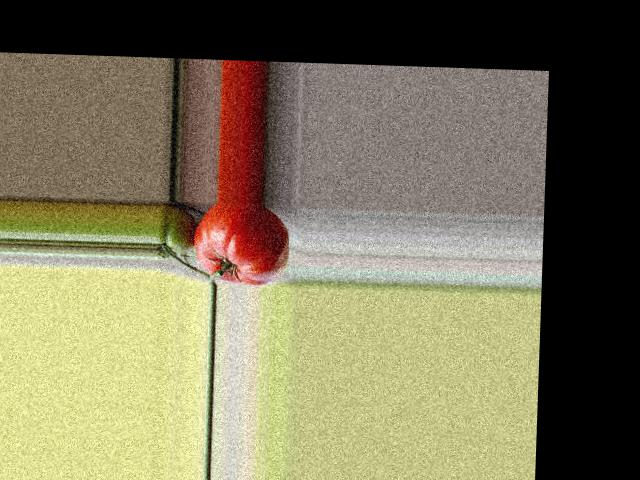tomato: (193, 200, 291, 286)
